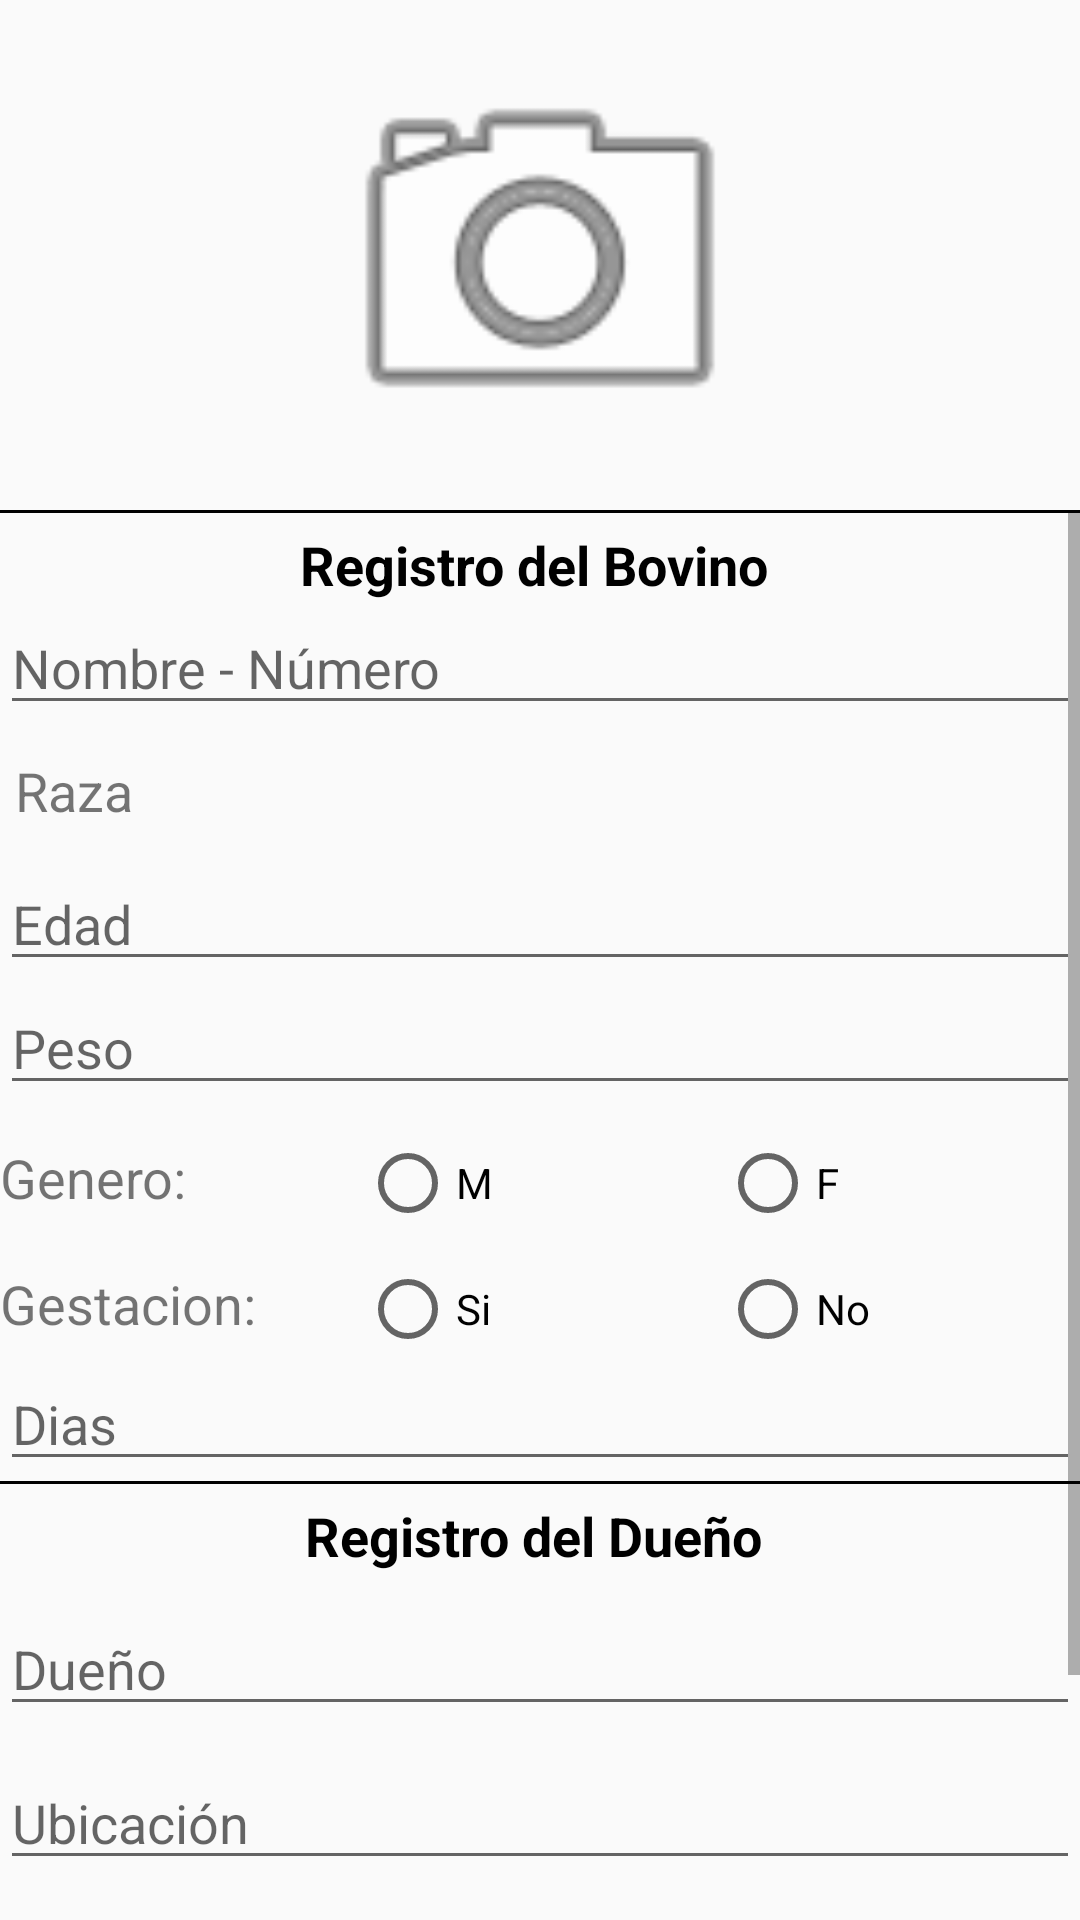

Icons on this 1080px x 1920px Android screen, each with the point to tap as point (x, y):
camera: point (540, 248)
